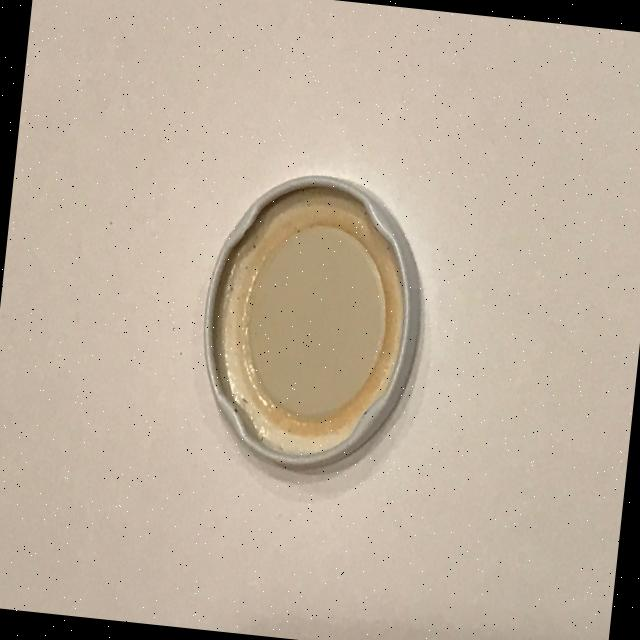metal: (188, 162, 438, 486)
